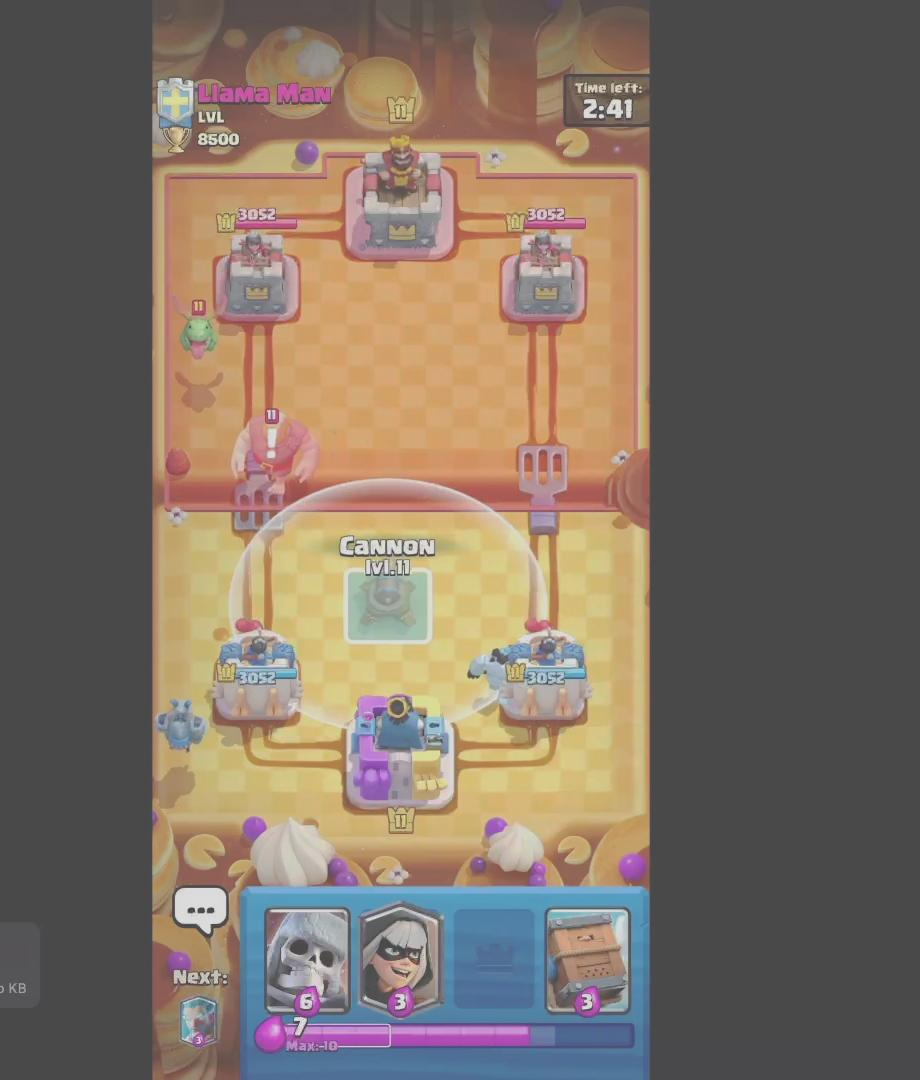Baby Dragon: (170, 291, 237, 371)
Giant: (230, 401, 314, 495)
